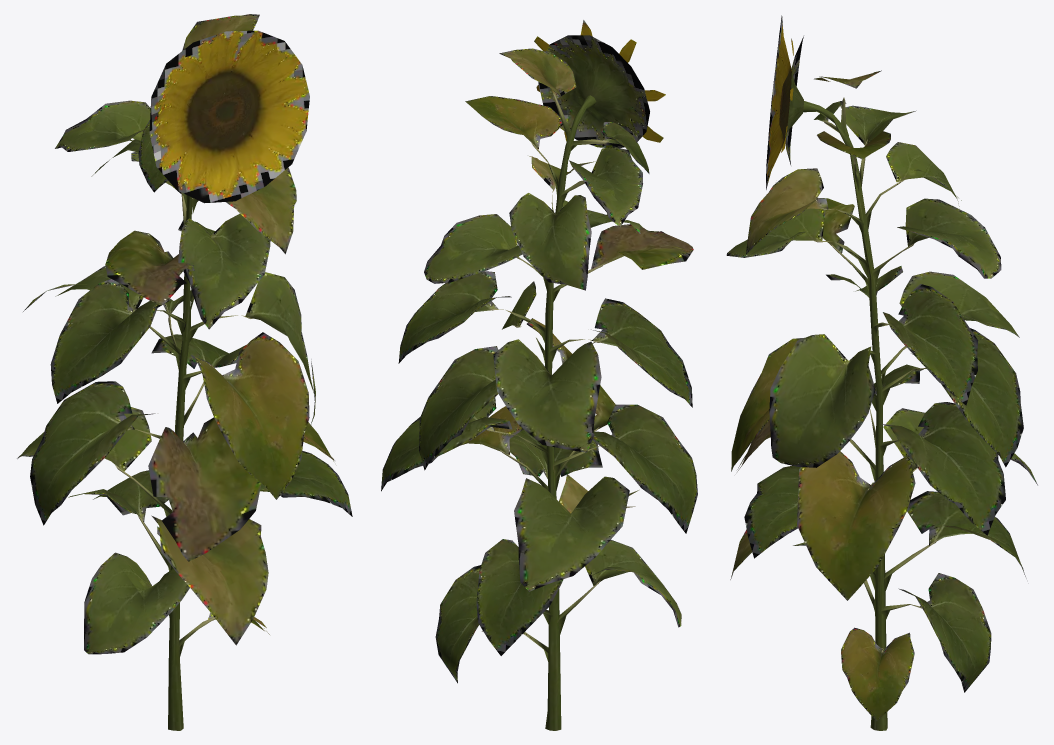
File: sunflower-collectable.glb
3 renders of one model, left to right at view 1: azimuth 30°, elevation 25°; view 2: azimuth 150°, elevation 25°; view 3: azimuth 270°, elevation 25°, orthographic. The views are drawn at different scales.
Parts seen in each view (by area): view 1: Sunflower-Collectable; view 2: Sunflower-Collectable; view 3: Sunflower-Collectable.
Boxes of the visible parts, left/top/right/bottom form: Sunflower-Collectable: left=17, top=14, right=352, bottom=730; Sunflower-Collectable: left=381, top=20, right=697, bottom=730; Sunflower-Collectable: left=726, top=15, right=1037, bottom=730.
Bounding box in the file's own units: 0.896 × 2.16 × 0.8728.
1 material, 1 textured.
